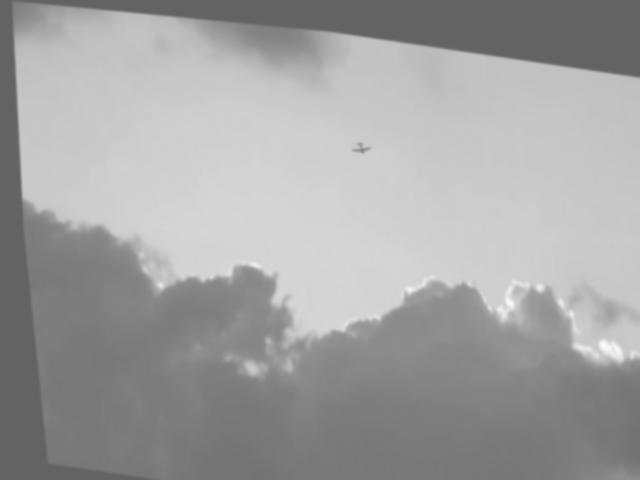hedef: (341, 126, 376, 155)
